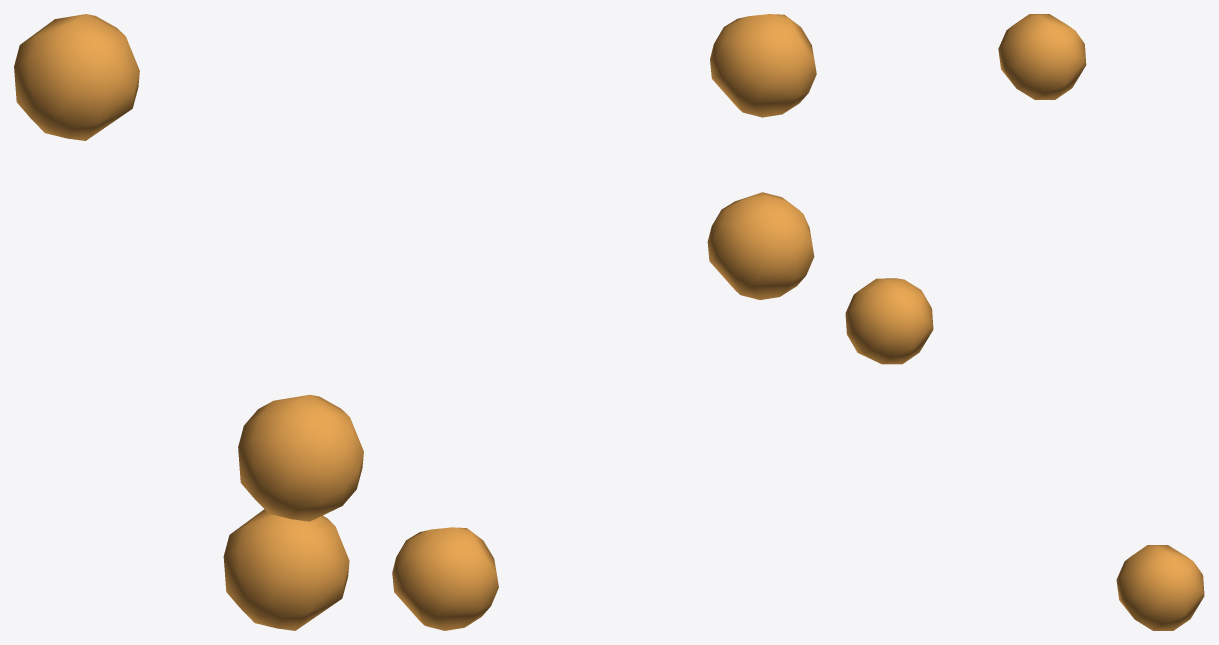
File: linfatico-intraglandular-parotid-nodes-r.glb
3 renders of one model, left to right at view 1: azimuth 30°, elevation 25°; view 2: azimuth 150°, elevation 25°; view 3: azimuth 270°, elevation 25°, orthographic. The views are drawn at different scales.
Visible parts, largest first — view 1: Intraglandular parotid nodes.r; view 2: Intraglandular parotid nodes.r; view 3: Intraglandular parotid nodes.r.
Boxes of the visible parts, left/top/right/bottom form: Intraglandular parotid nodes.r: left=14, top=14, right=363, bottom=630; Intraglandular parotid nodes.r: left=392, top=14, right=816, bottom=630; Intraglandular parotid nodes.r: left=845, top=14, right=1204, bottom=630.
Size of the model in its own units: 0.00937 by 0.0164 by 0.0104.
